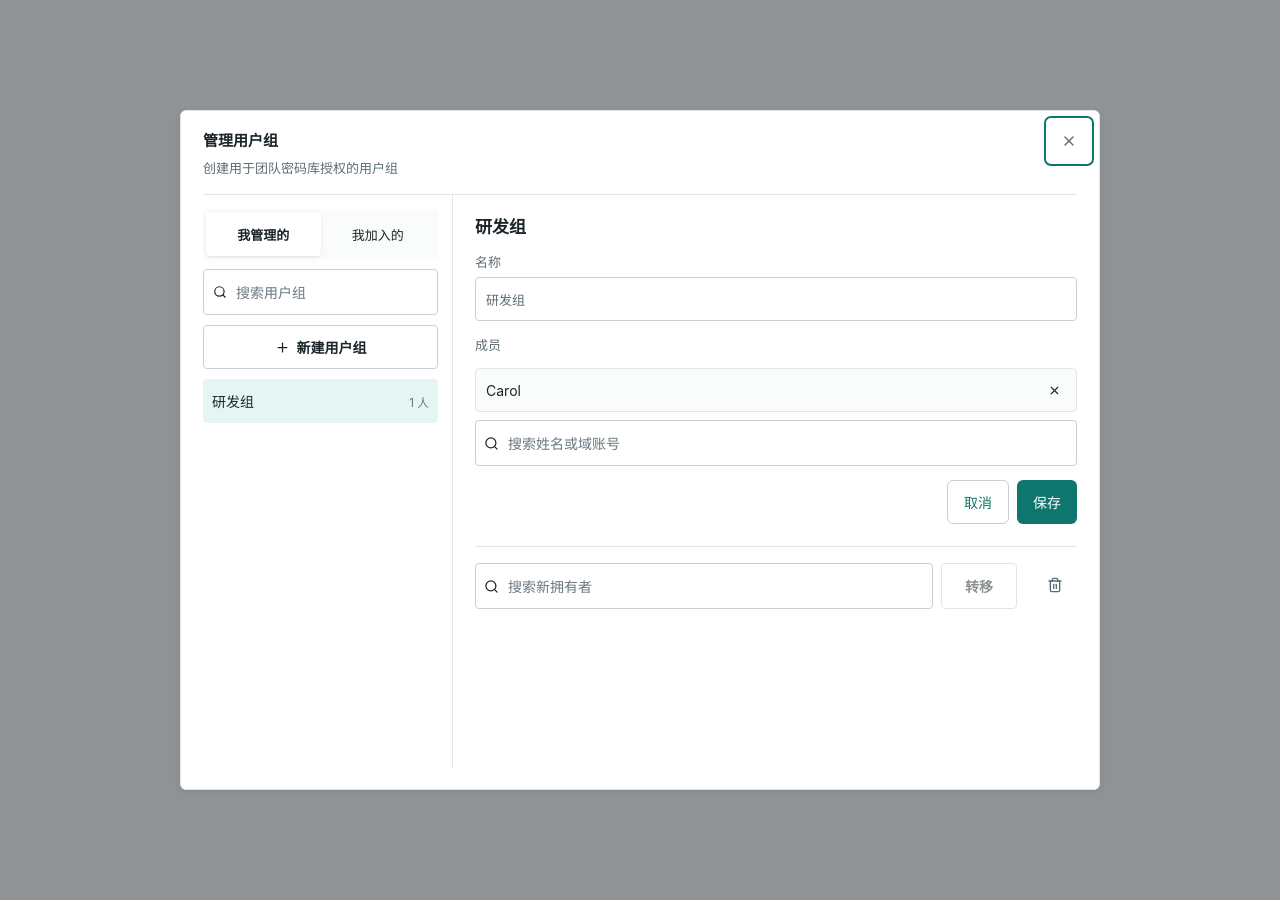
GroupsDialog › preserves the local draft and explains a concurrent update
Replace the text in the field labelled "名称" with "本地未保存名称" at (776, 299), box [475,277,1077,321]
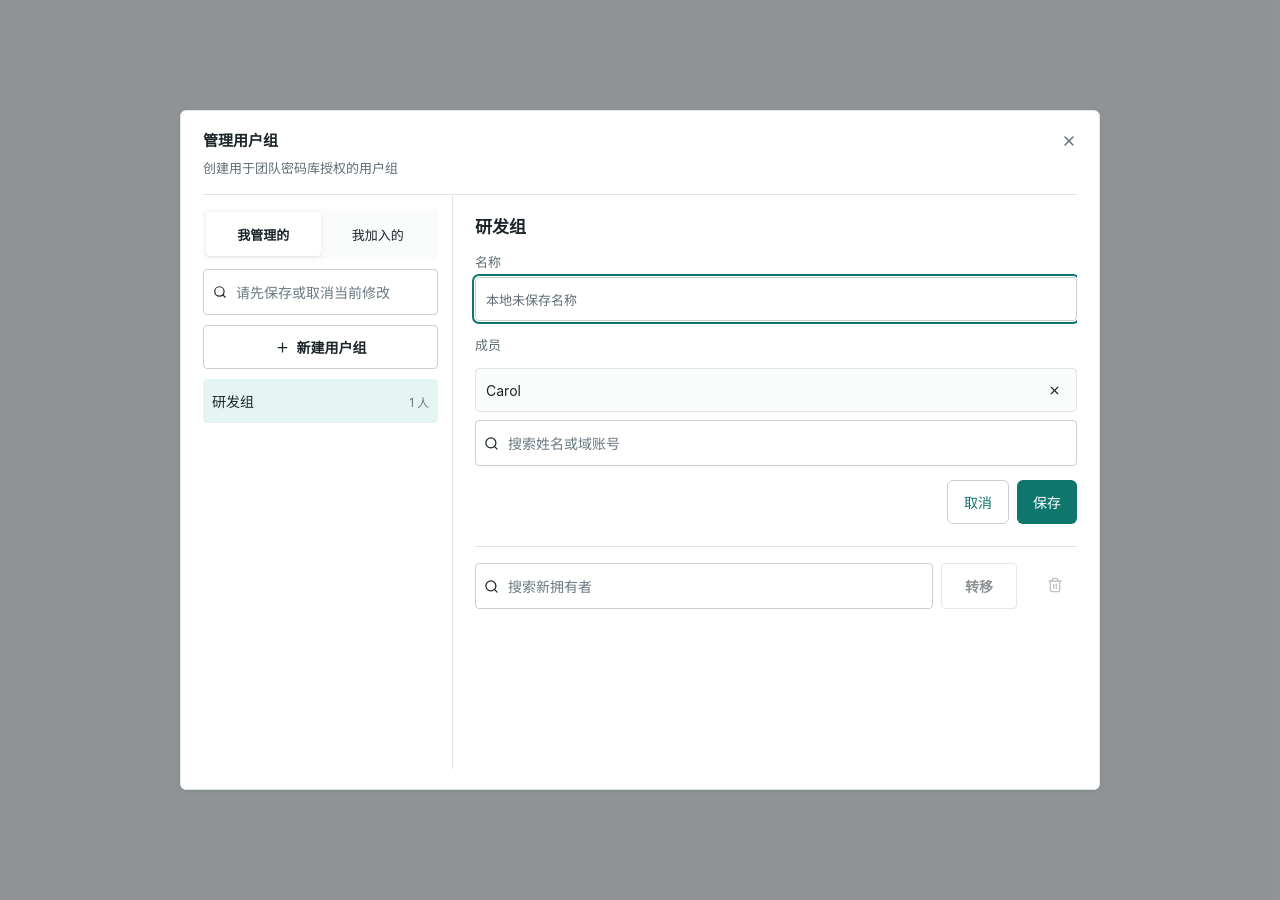
Click the button "保存" at (1047, 502), box [1017,480,1077,524]
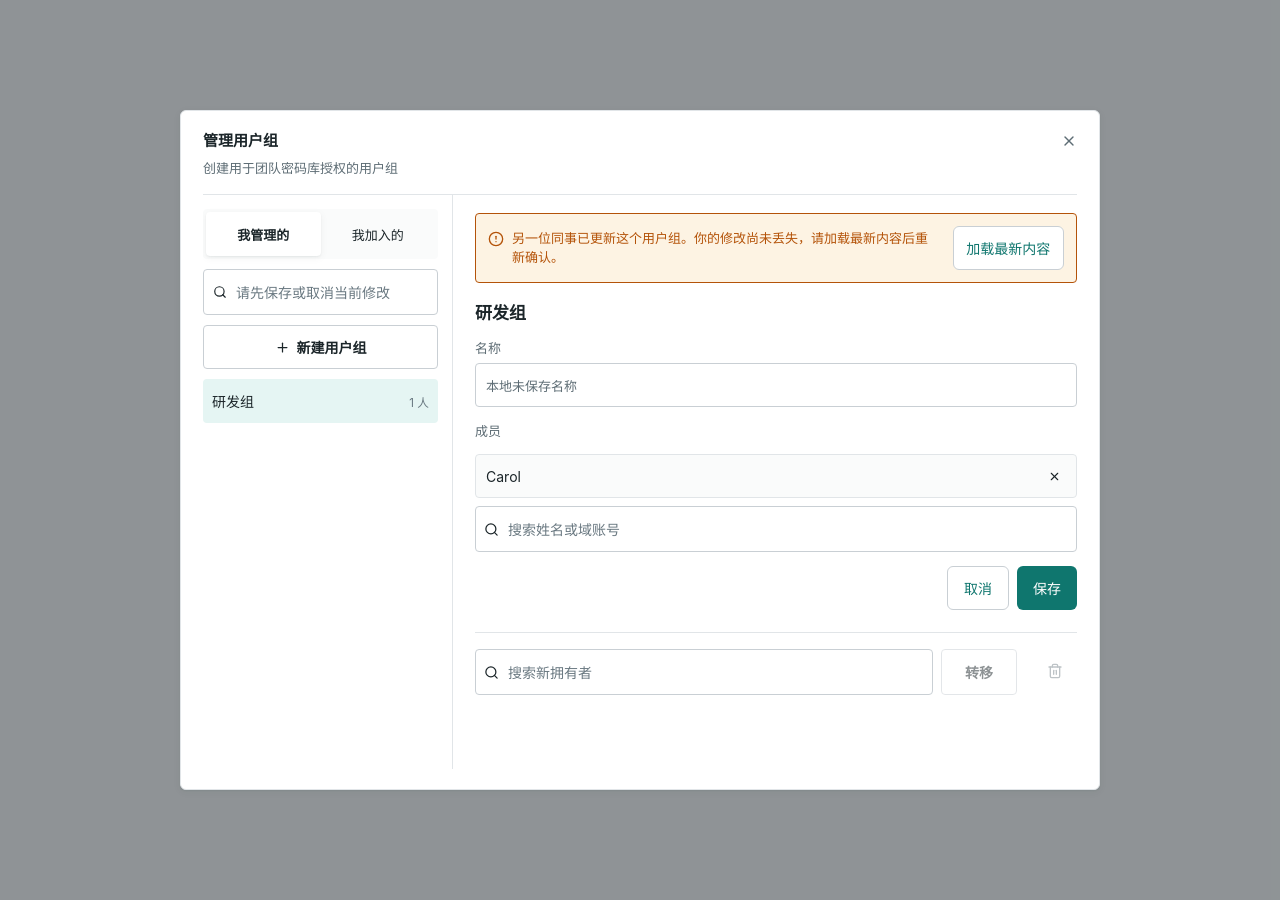
Check: the message shows "你的修改尚未丢失", box [512,230,928,265]
Check: the button "加载最新内容" is shown, box [953,226,1064,270]
